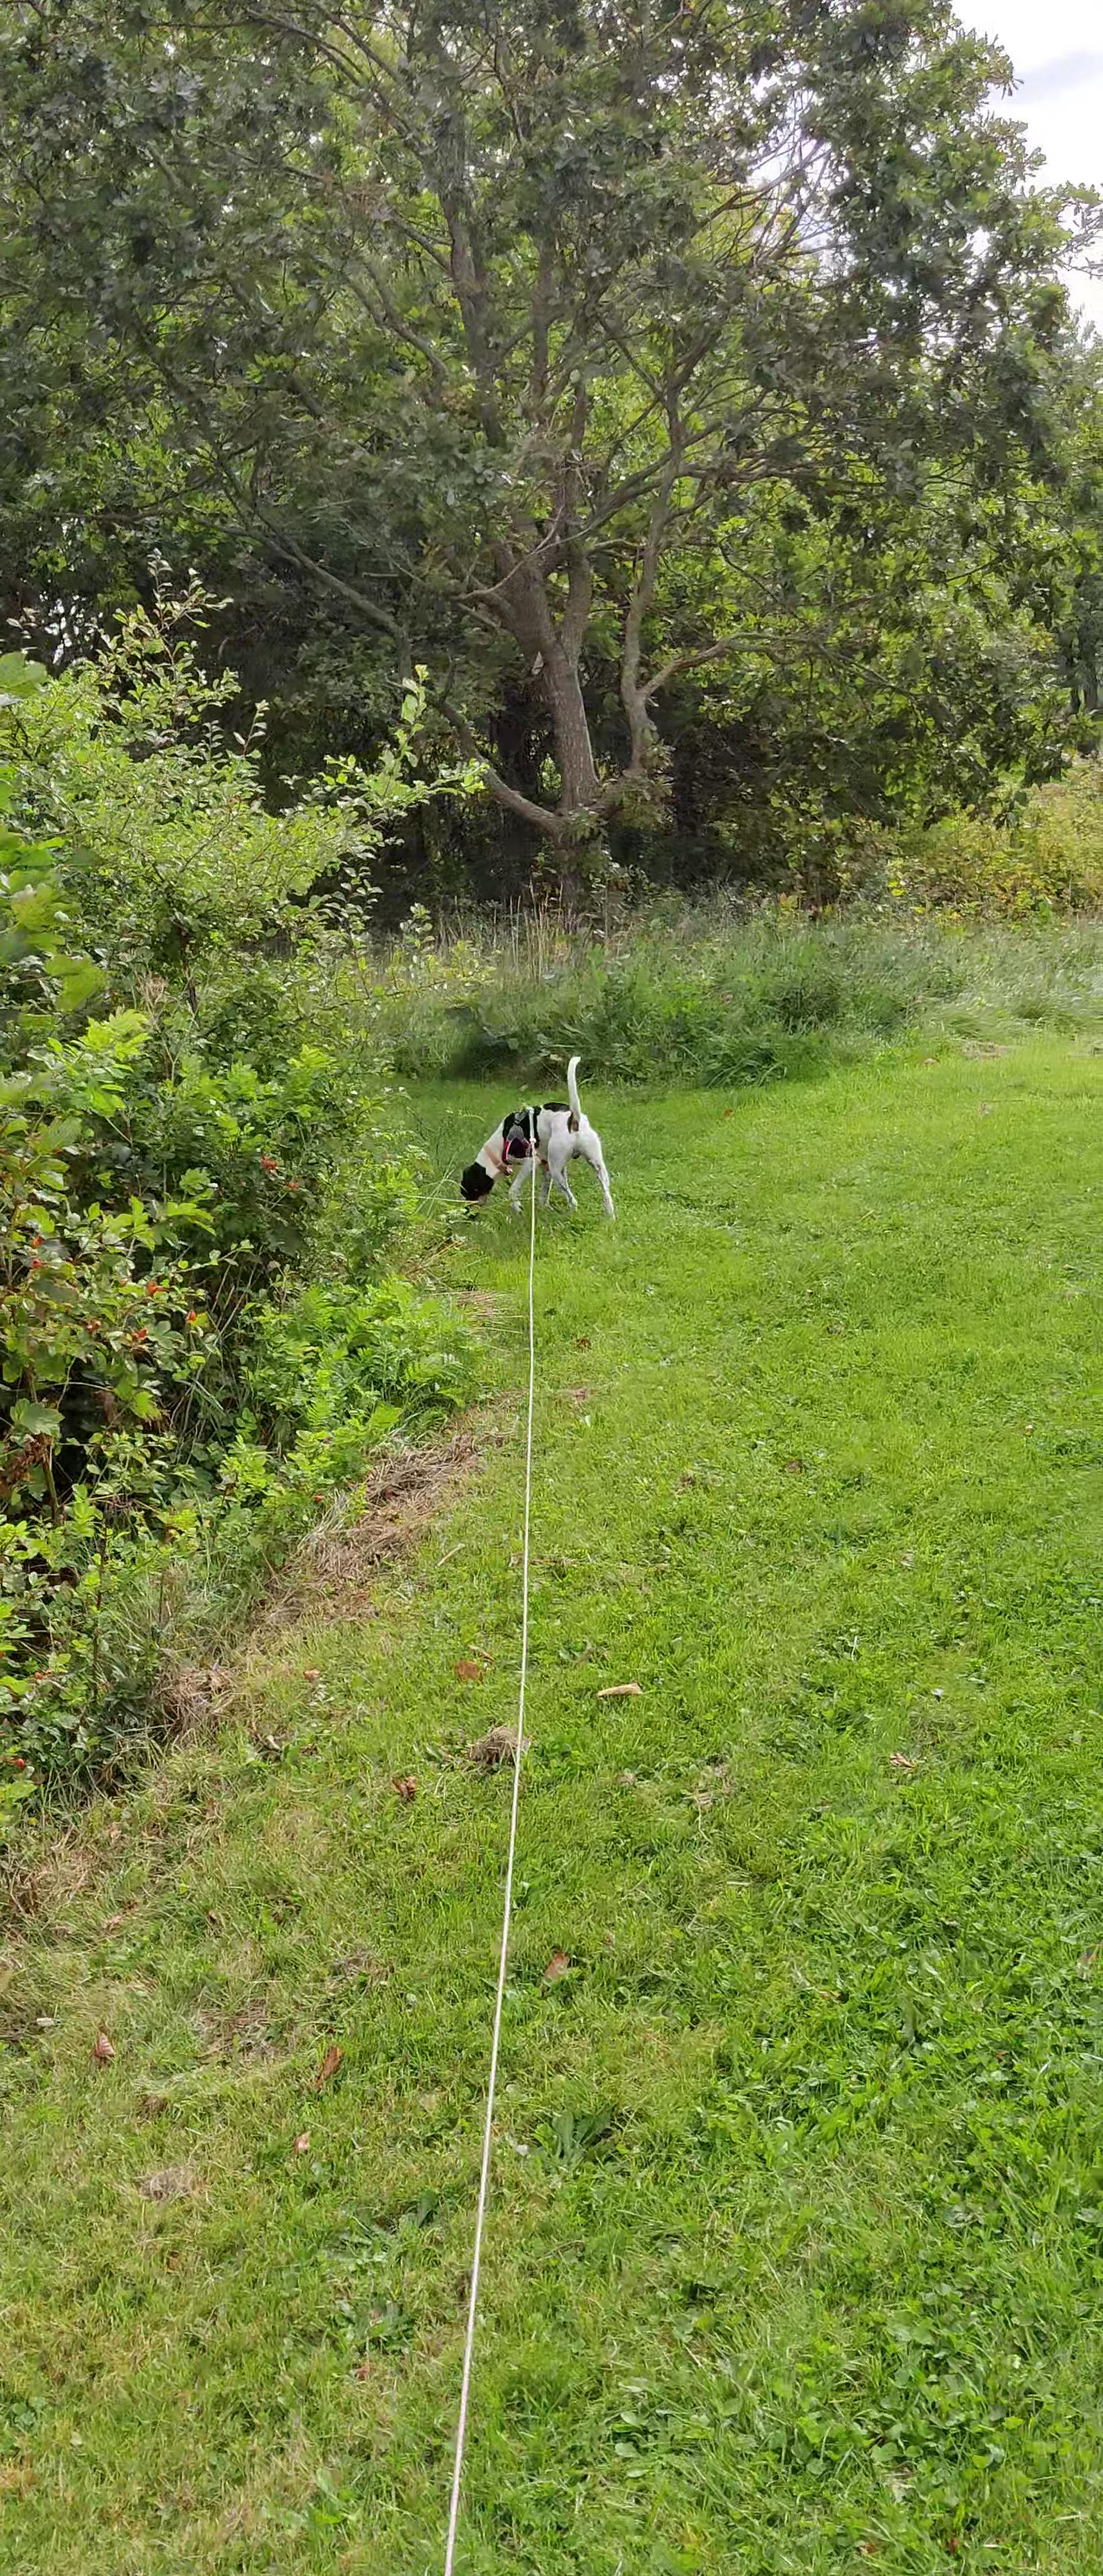Dog: (450, 1046, 626, 1229)
